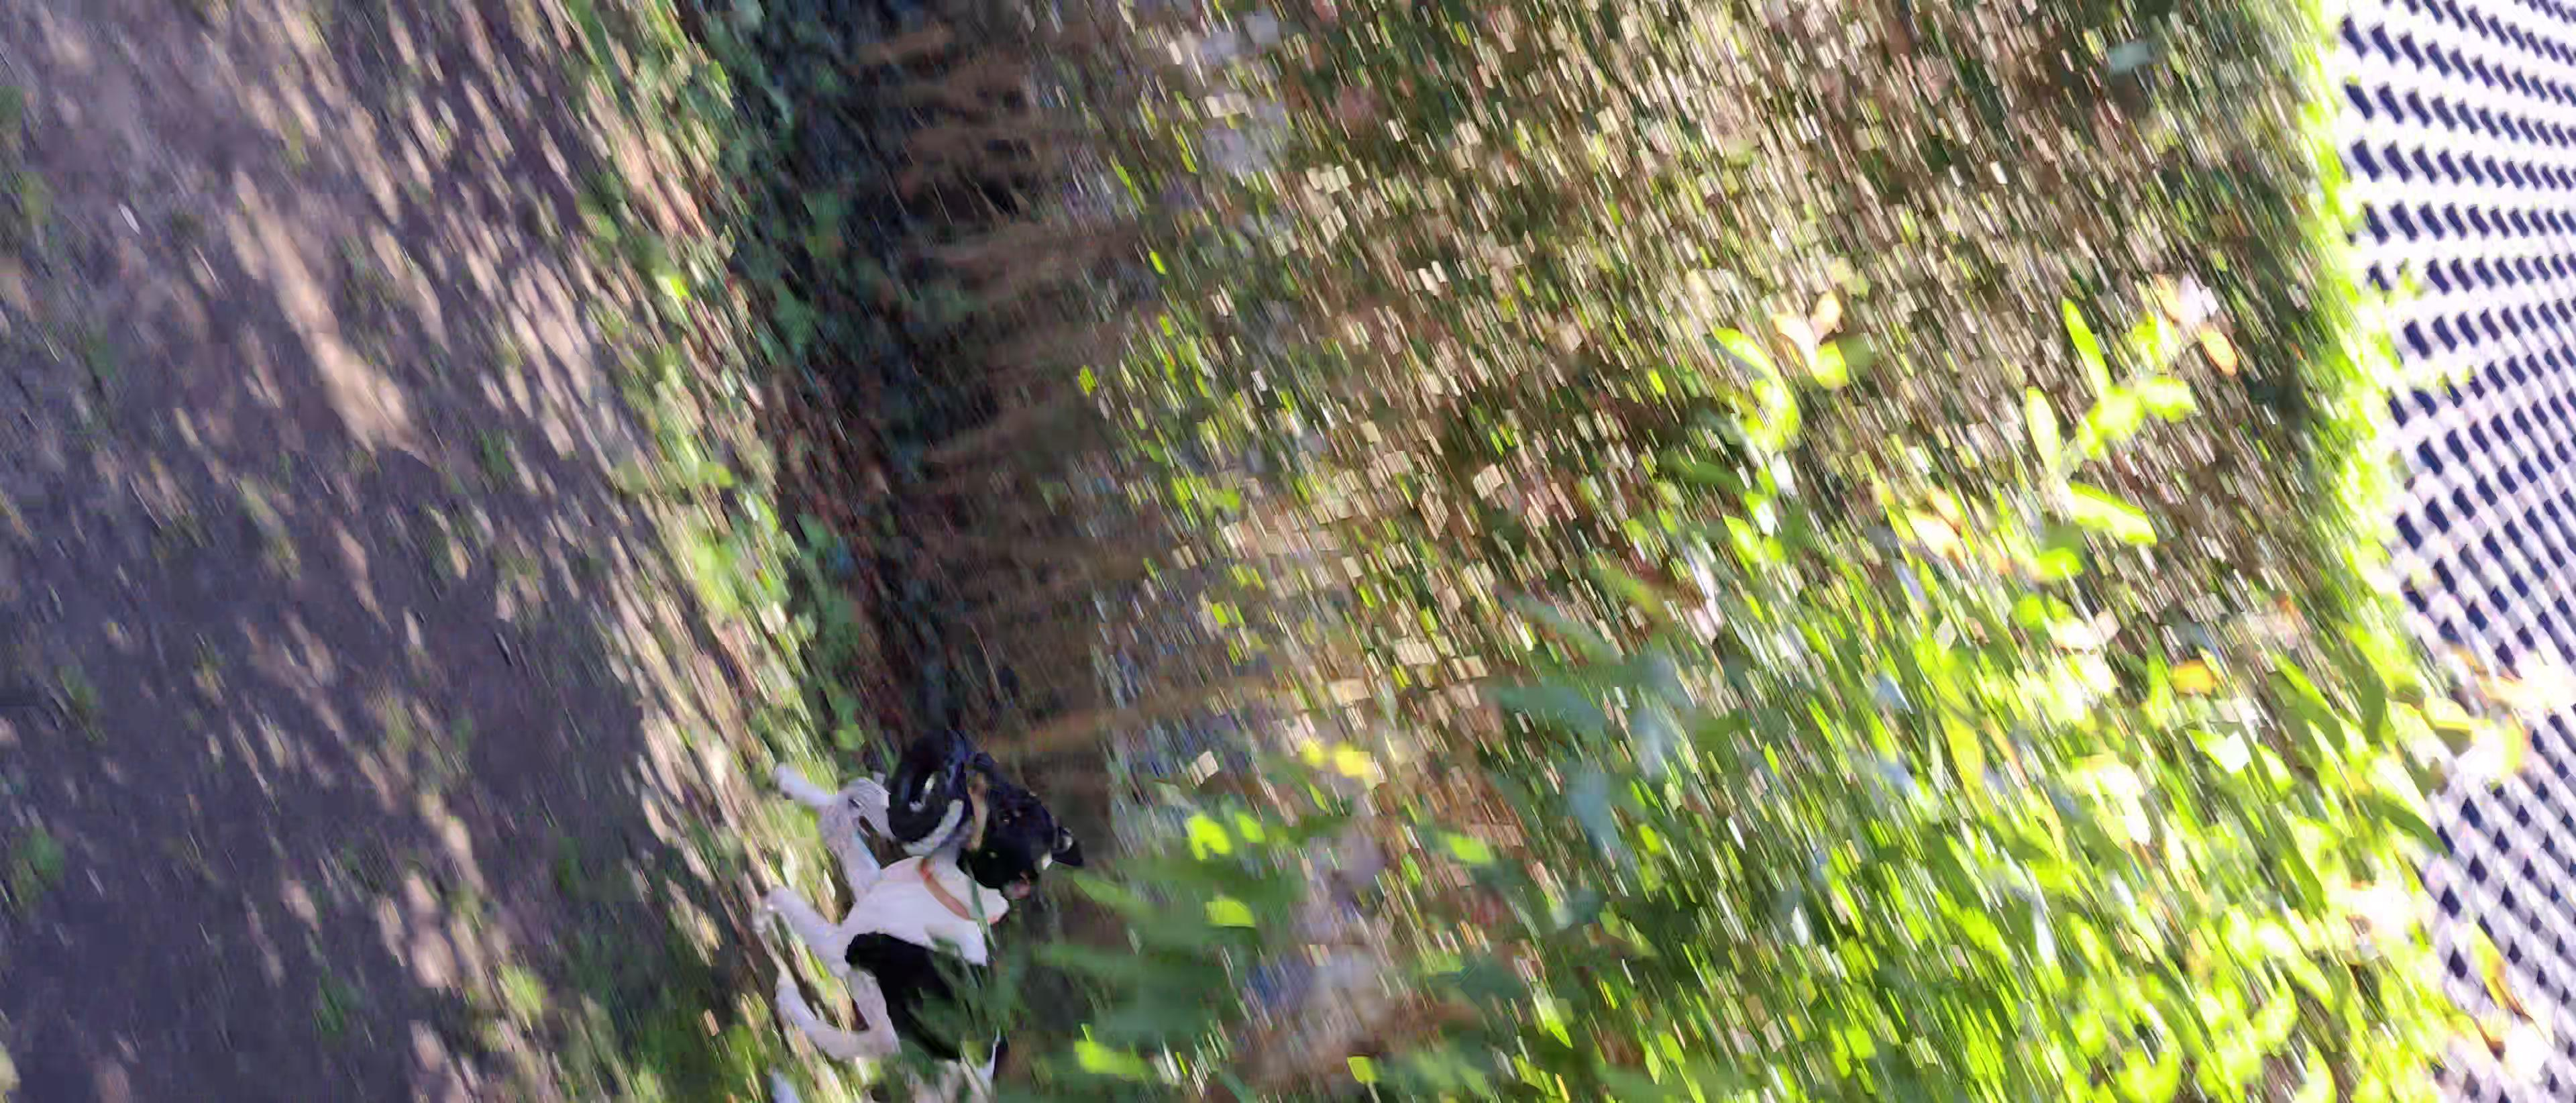Dog: (731, 704, 1096, 1103)
